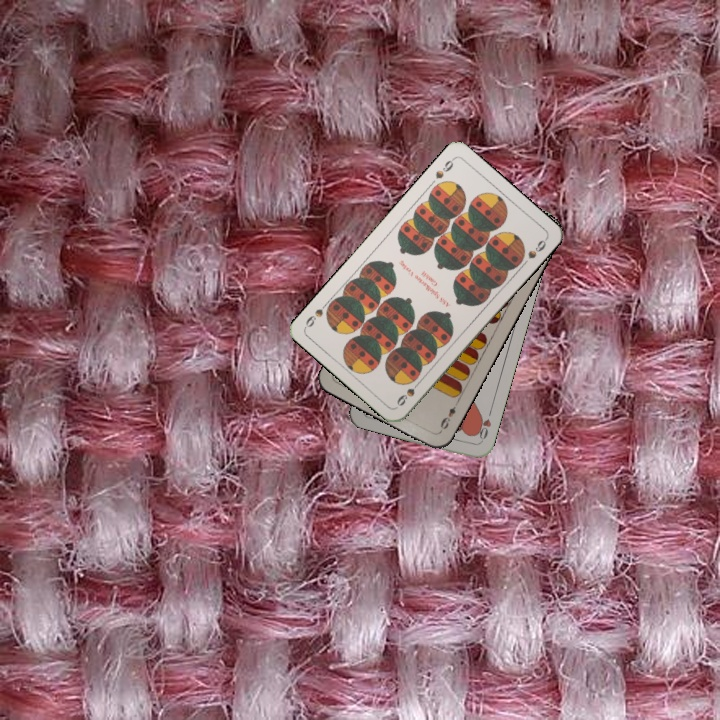E9: (436, 397, 461, 435)
HO: (472, 405, 494, 445)
S9: (393, 376, 424, 409), (431, 154, 457, 181)
